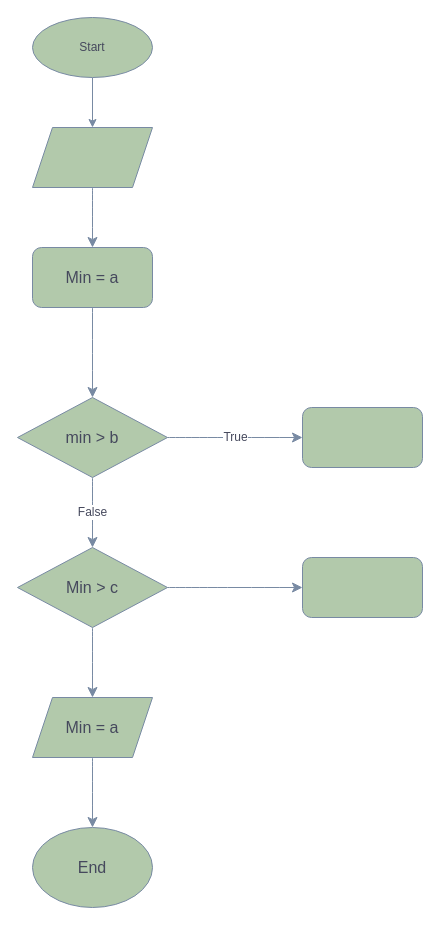
Image size: 440x925. Some labels were removed from this diagram. Here are the shapes that lost their labels. From the top down, the box of each, then its label:
(32, 126, 152, 188): a, b, c
(302, 406, 422, 468): Min = b
(302, 556, 422, 618): Min = c
